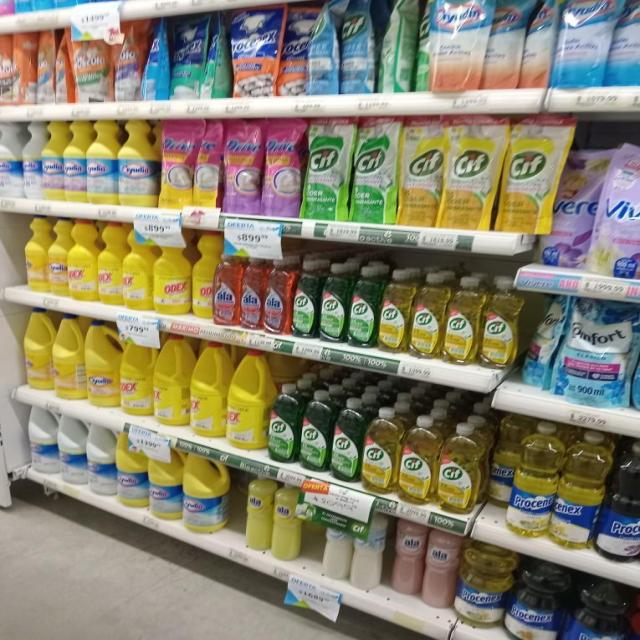ala_conc_rojo: (264, 256, 292, 336), (213, 253, 240, 327), (240, 255, 264, 331)
ala_crem_amarillo: (272, 483, 301, 562), (244, 476, 271, 554)
ala_crem_blanco: (351, 510, 385, 591)
ala_crem_rosado: (424, 529, 456, 610), (390, 519, 422, 597)
cif_conc_bot_amarilla: (438, 421, 484, 515), (481, 276, 520, 370), (400, 415, 437, 505), (363, 405, 398, 495), (445, 275, 479, 366), (411, 271, 444, 360), (380, 268, 410, 354)
cif_conc_botella_verde: (332, 396, 362, 484), (267, 383, 299, 465), (301, 389, 331, 474), (349, 264, 378, 348), (320, 262, 348, 344), (293, 258, 319, 339)
cif_conc_sachet_amarillo: (502, 114, 556, 234), (445, 113, 499, 231), (400, 115, 442, 228)
cif_conc_sachet_verde: (352, 115, 398, 225), (304, 117, 349, 221)
